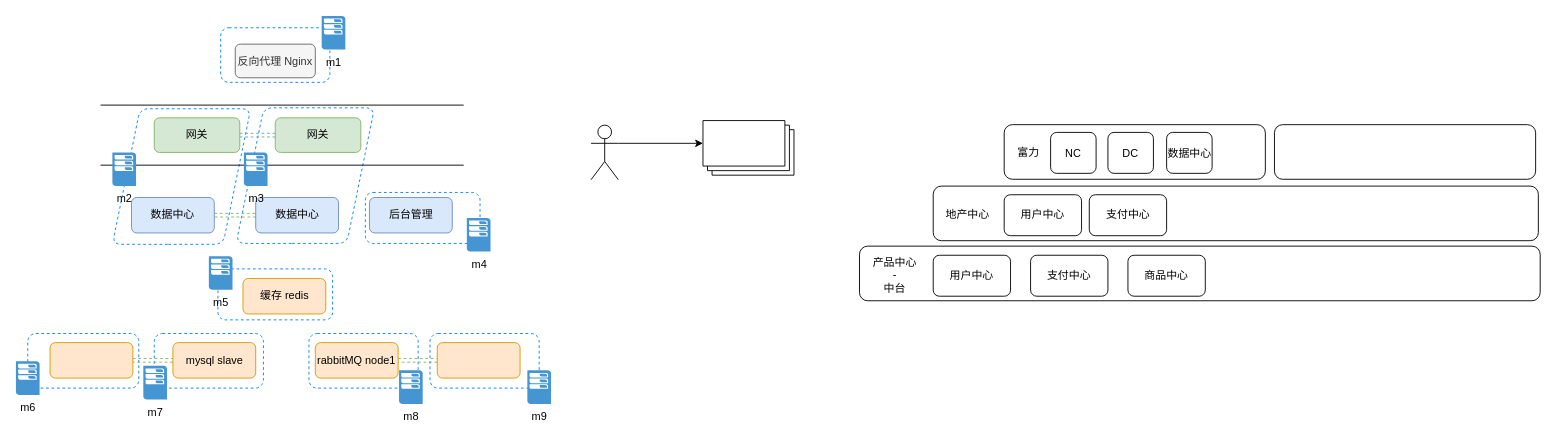
Some shapes in this 1556 by 439 pixel diagram are drawn without their labels. The shapes that lost their labels are listed below. From the top down, each one's box as (x1, y1, x2, y2) in pixels, then its label:
(590, 124, 618, 180): 团队
(49, 342, 133, 378): mysql master
(436, 342, 520, 378): rabbitMQ node2
